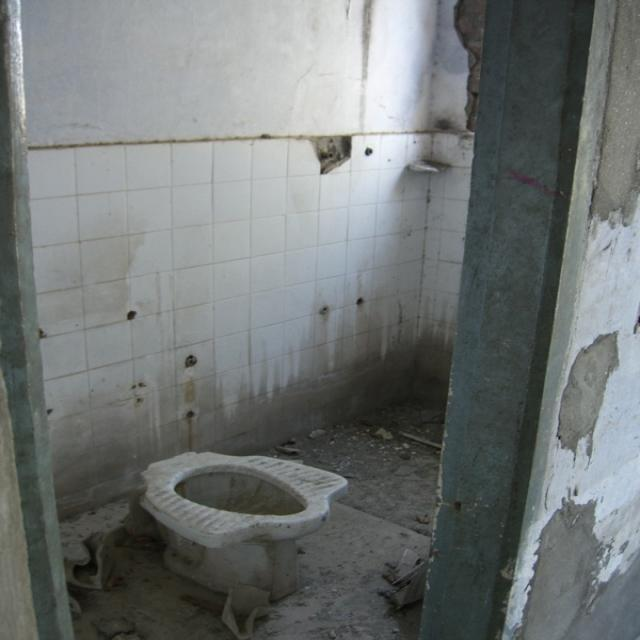dirty_floor: (7, 1, 636, 637), (26, 129, 474, 516)
